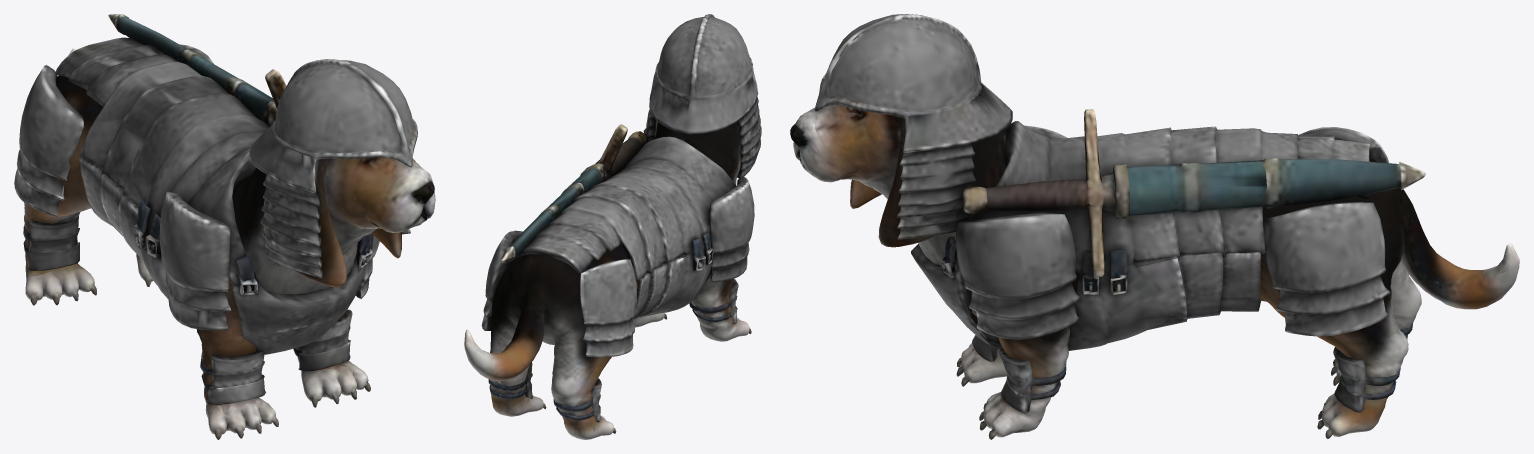
File: MZ4250 - Lady Beatrice Basset Hound Fighter.glb
3 renders of one model, left to right at view 1: azimuth 30°, elevation 25°; view 2: azimuth 150°, elevation 25°; view 3: azimuth 270°, elevation 25°, orthographic. The views are drawn at different scales.
Visible parts, largest first — view 1: Lady Beatrice.002; view 2: Lady Beatrice.002; view 3: Lady Beatrice.002.
Part boxes in pixels (<box>): Lady Beatrice.002: <box>14,14,435,439</box>; Lady Beatrice.002: <box>464,14,761,439</box>; Lady Beatrice.002: <box>790,14,1519,439</box>.
Size of the model in its own units: 16.42 by 29.18 by 49.43.
2 materials, 2 textured.
